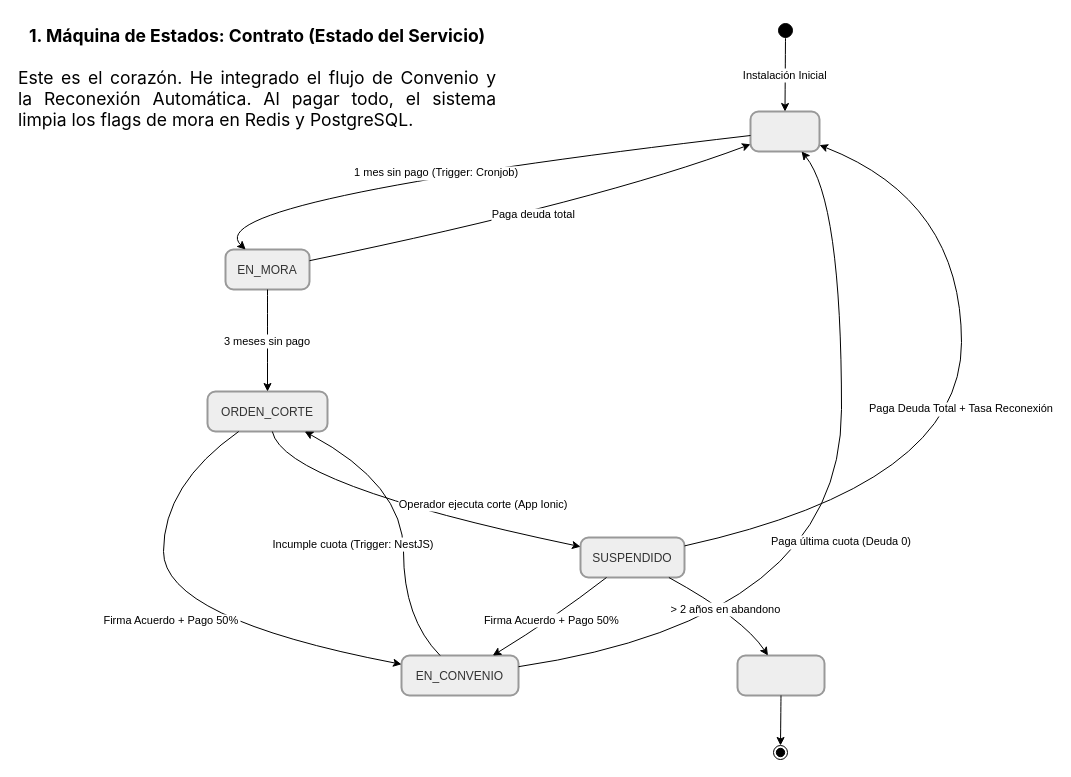
The diagram is 1071 pixels wide and 777 high, and some of its shapes have lost their labels. The box of each missing label's shape, as (x1, y1, x2, y2) in pixels:
ACTIVO: (749, 110, 820, 152)
RETIRADO: (736, 654, 825, 696)
